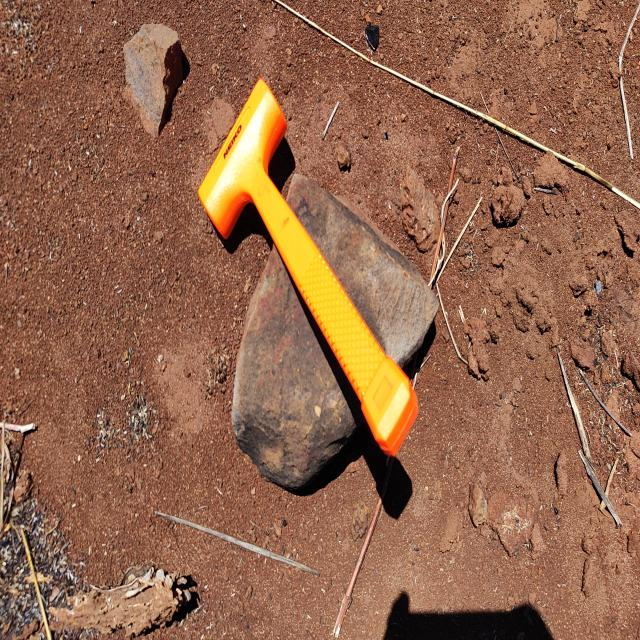Orange_hammer: (197, 76, 420, 461)
